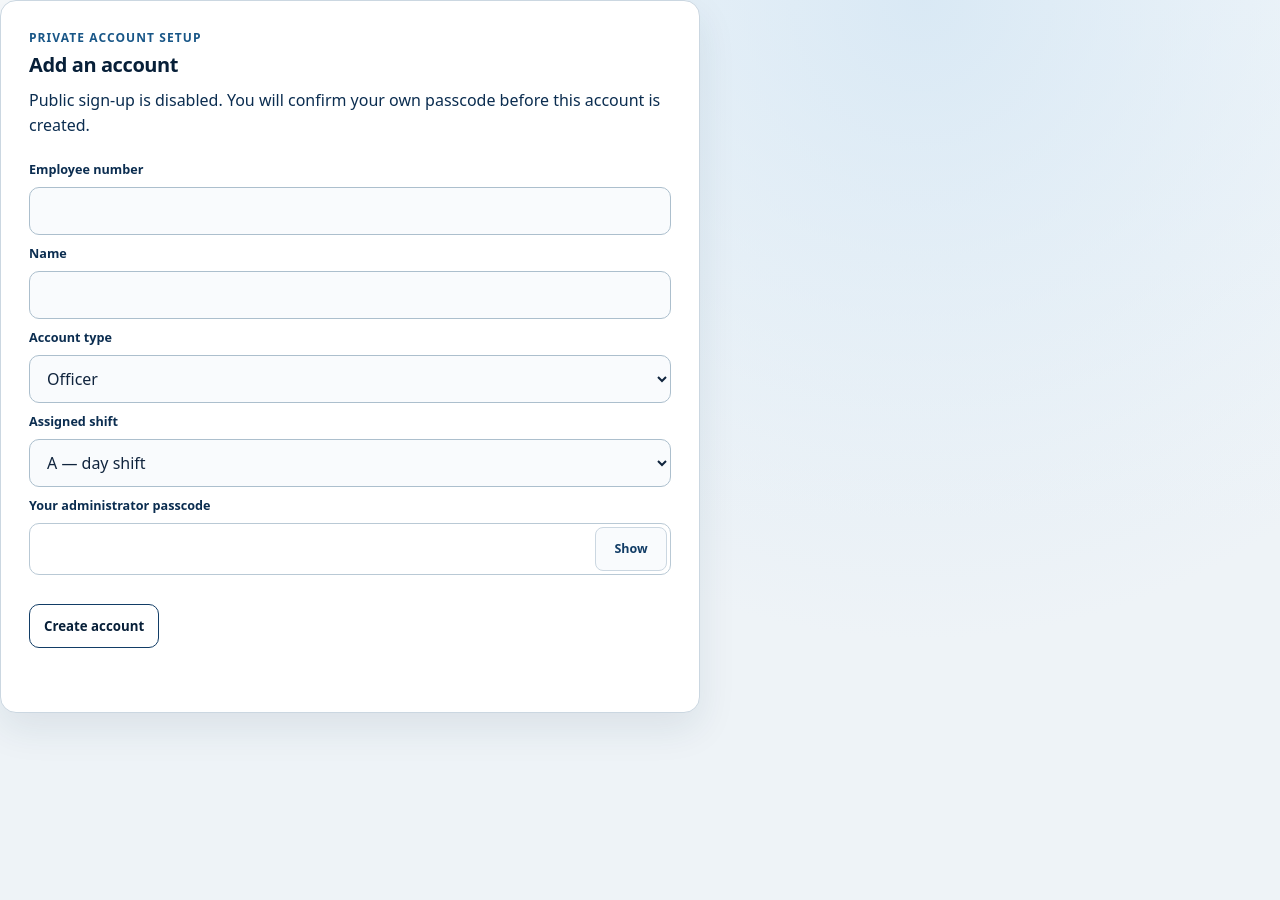
Scenario: AccountInvitationForm › gets the CSRF token, then a fresh approval, before creating the account
In the field labelled "Employee number": (350, 211) [29, 187, 671, 235], type "FIXTURE-0002"
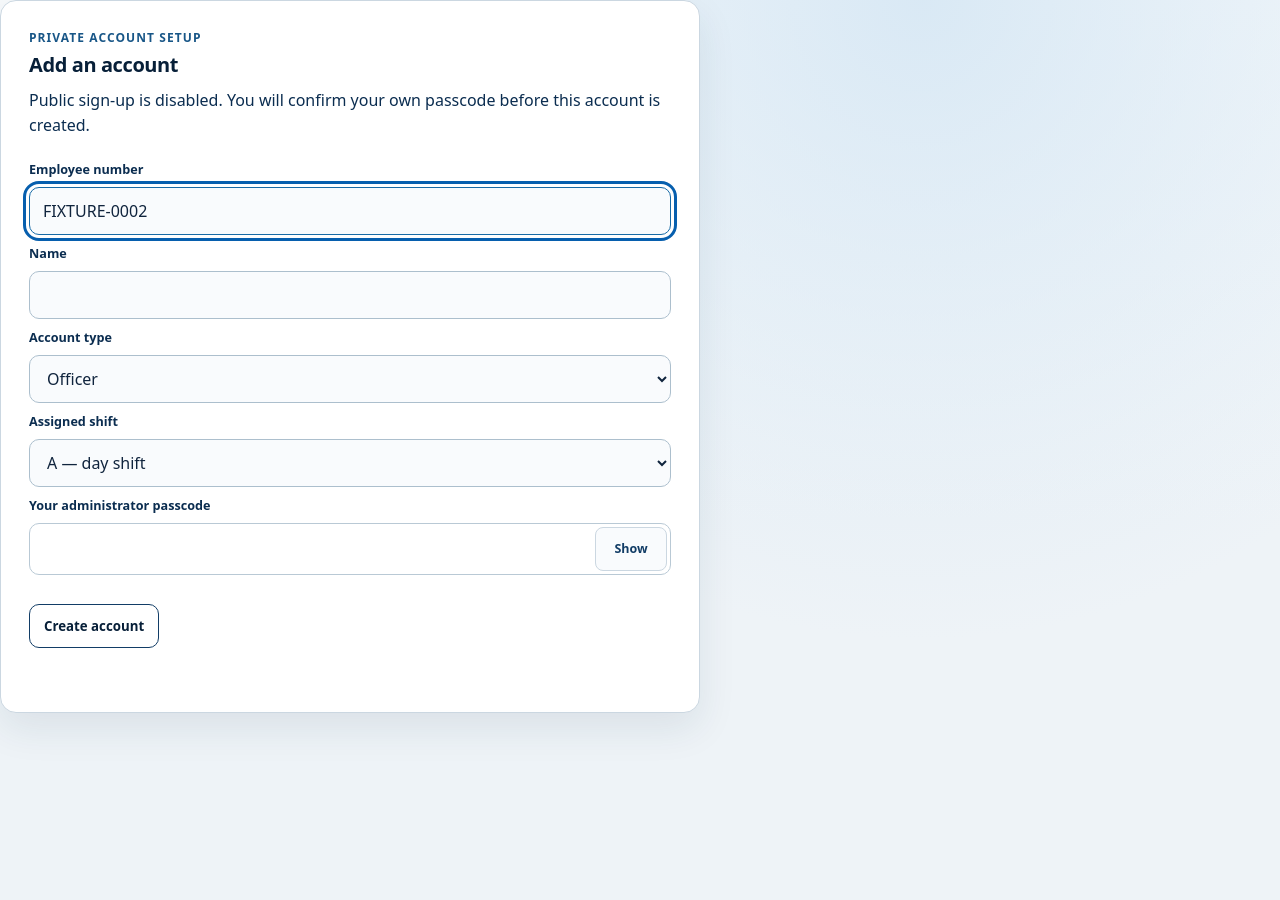
In the field labelled "Name": (350, 295) [29, 271, 671, 319], type "Fictional Officer"
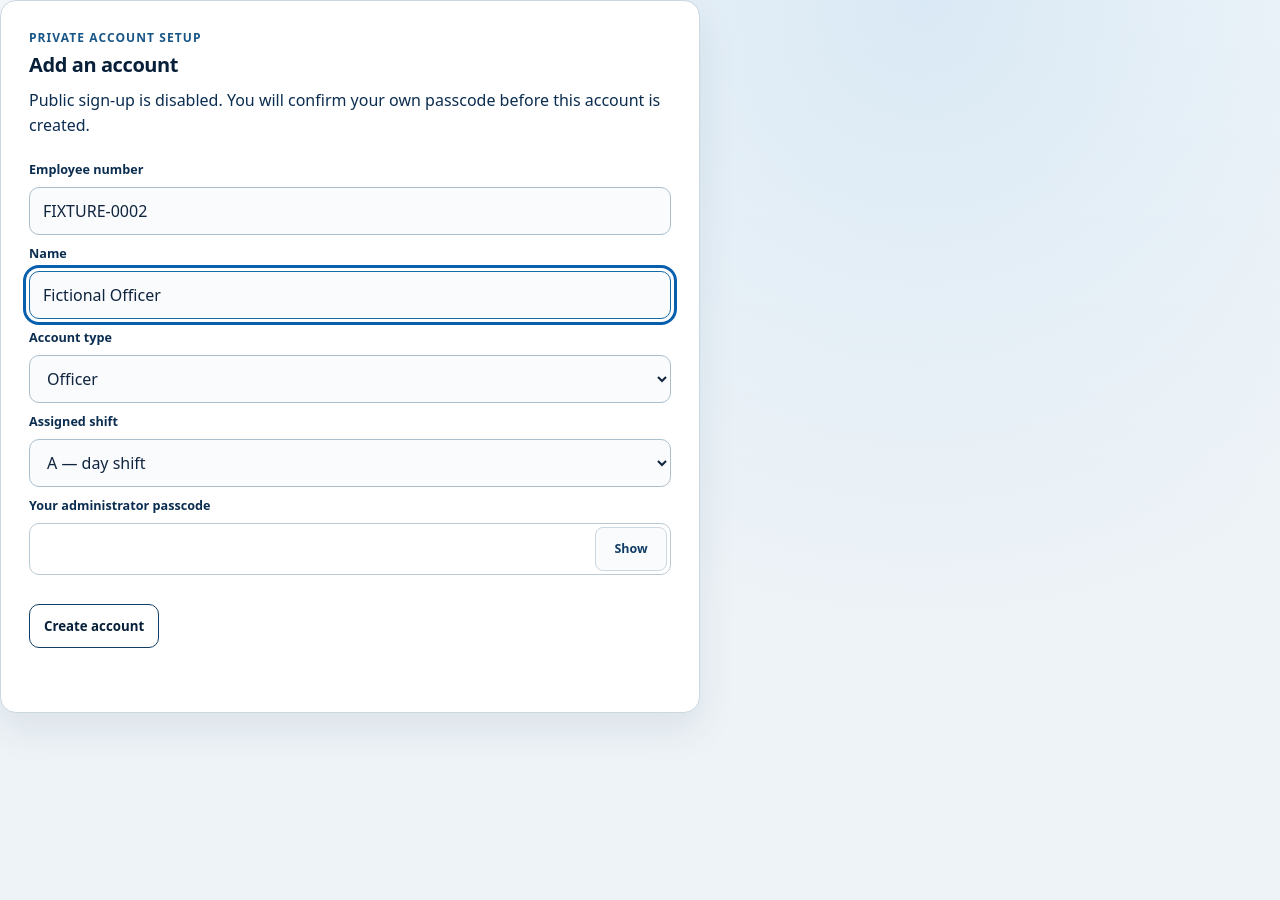
Select "U — five-day week" in the dropdown labelled "Assigned shift": (350, 463) [29, 439, 671, 487]
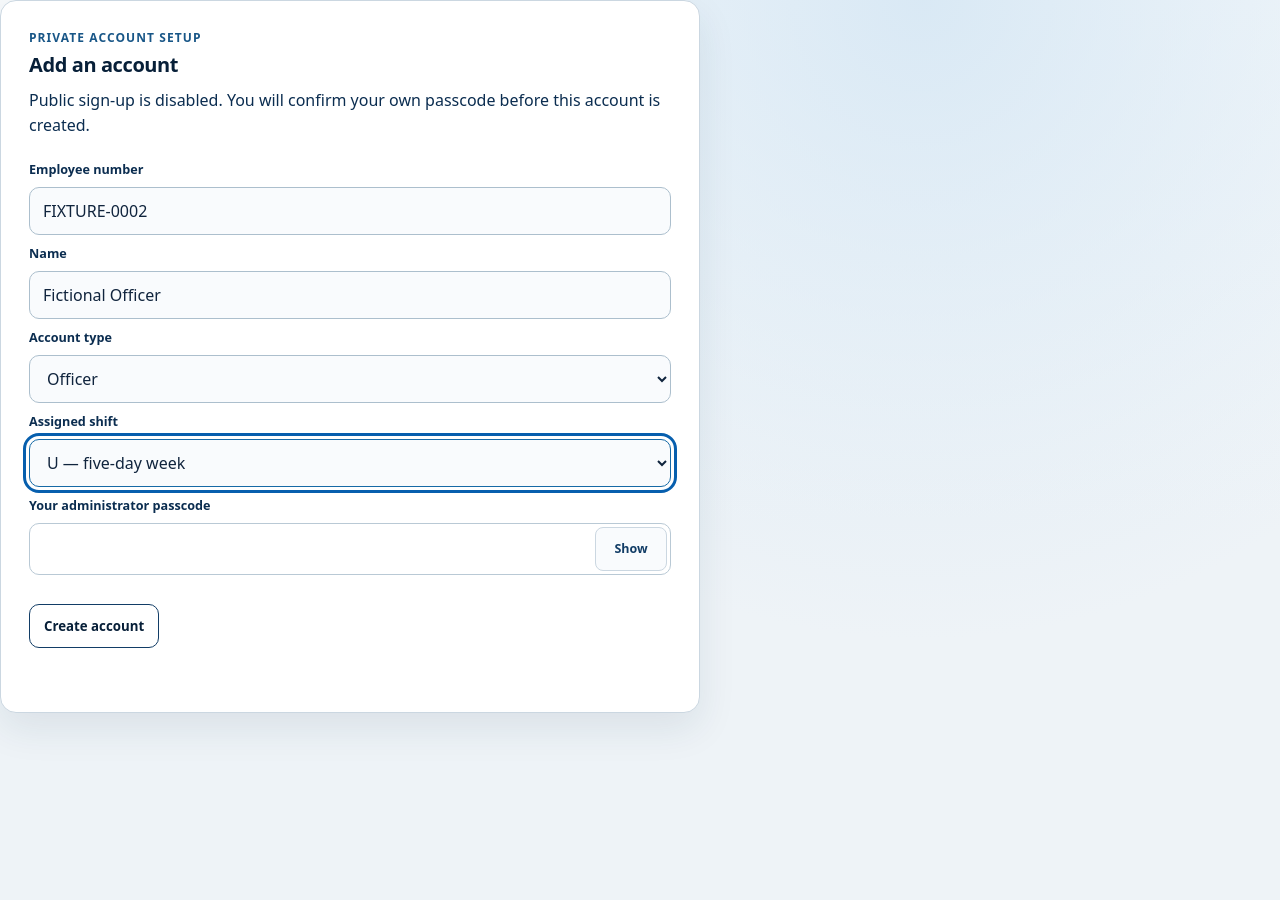
In the password field labelled "Your administrator passcode": (350, 549) [29, 523, 671, 575], type "FreshPasscode9!"
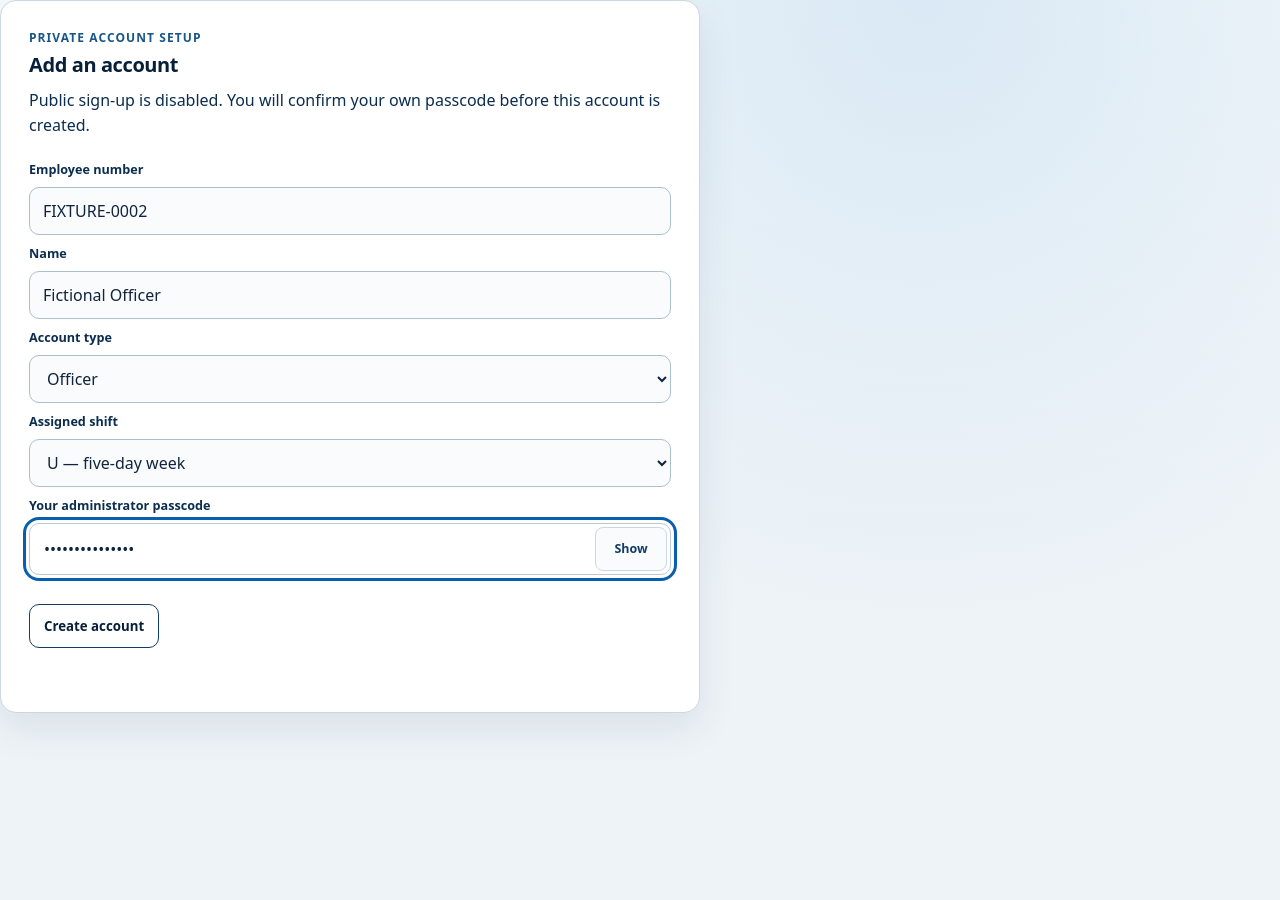
Click the button "Create account": (94, 626) [29, 604, 159, 648]
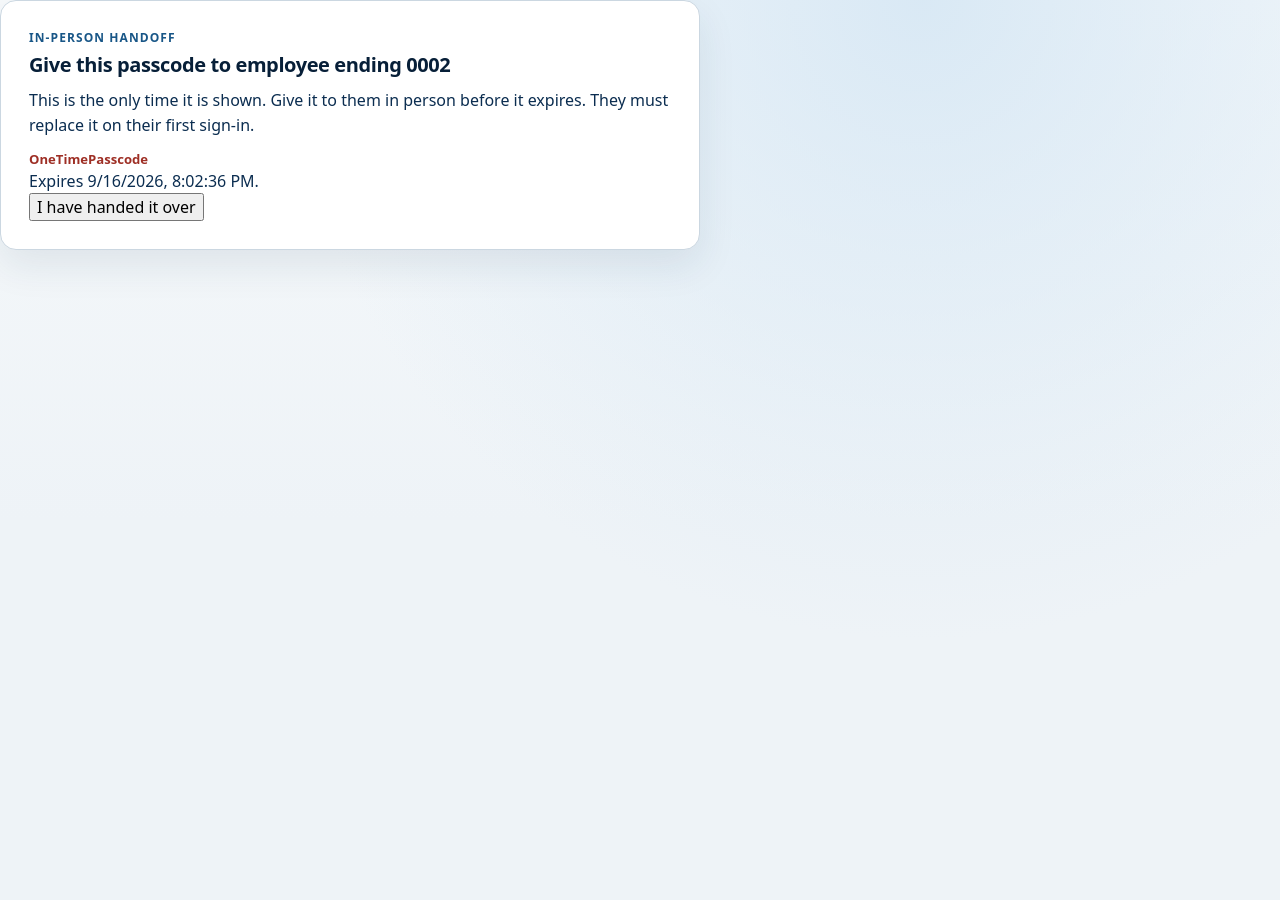
Check: the heading "Give this passcode to employee ending 0002" is shown, box [29, 51, 450, 78]
Check: the text "OneTimePasscode" is shown, box [29, 150, 148, 168]
